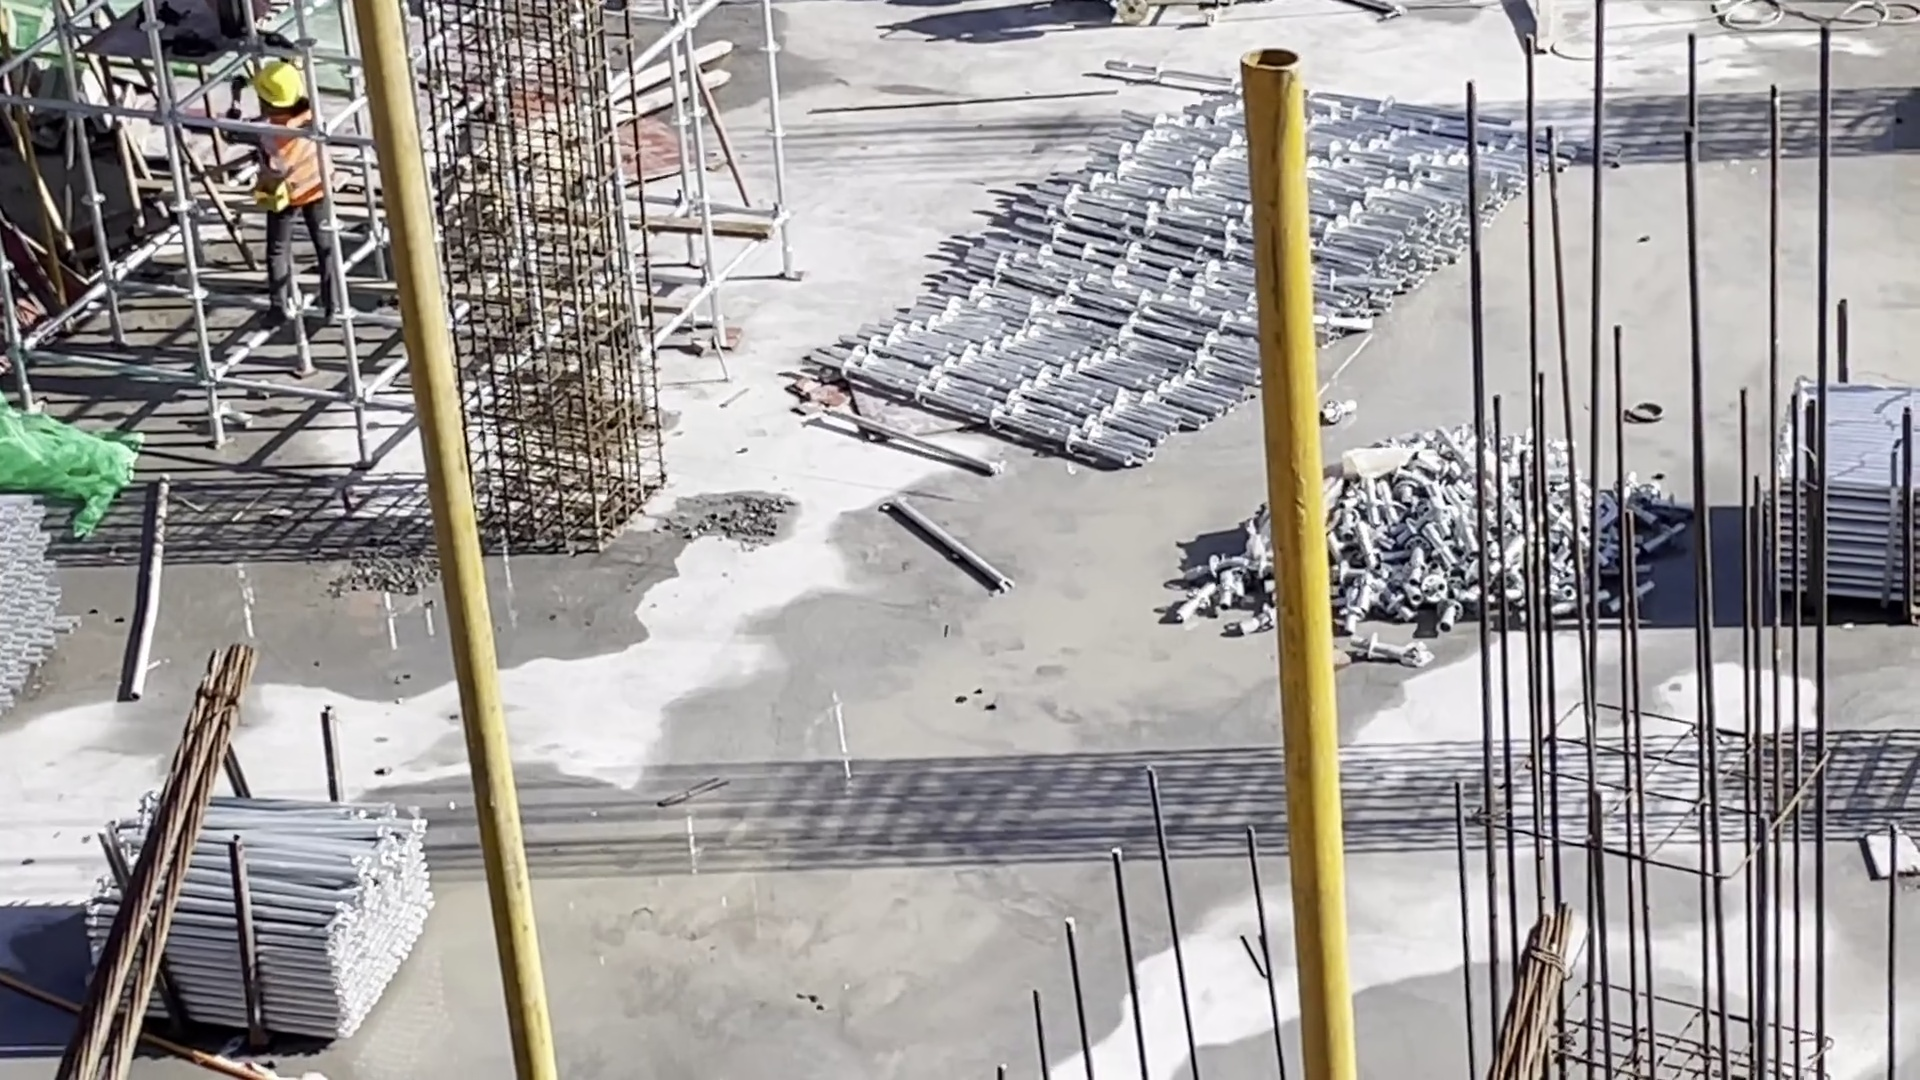helmet: (252, 58, 307, 106)
person: (232, 63, 345, 324)
scaffold: (803, 76, 1621, 475), (85, 794, 439, 1037), (1774, 363, 1920, 613)
vest: (254, 112, 331, 219)
